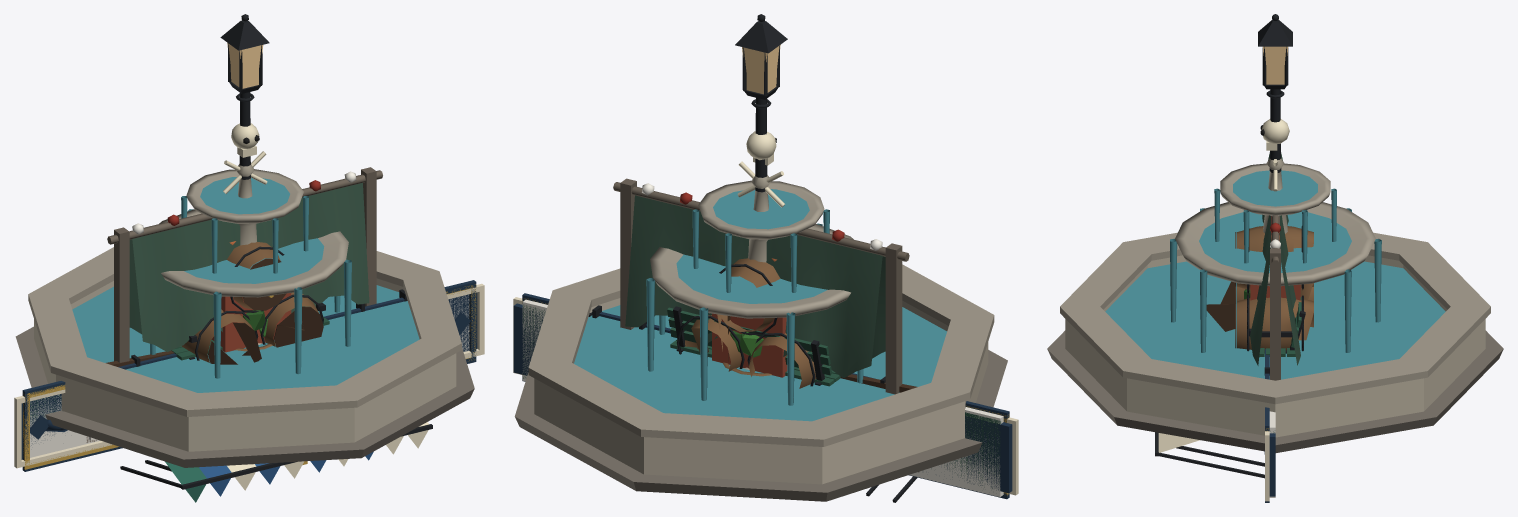
Rendered from kit.glb.
The picture shows the model from 3 angles, left to right: view 1: azimuth 30°, elevation 25°; view 2: azimuth 150°, elevation 25°; view 3: azimuth 270°, elevation 25°; orthographic projection. The views are drawn at different scales.
Visible parts, largest first — view 1: fountain, netrack, rum_barrels, sign_fishhall, sign_chandler, lamp_street, awning_blue, awning_green, sign_tavern, skull_pole, chimney_pots; view 2: fountain, netrack, sign_chandler, sign_fishhall, rum_barrels, lamp_street, bench, chimney_pots, sign_tavern, skull_pole, planter; view 3: fountain, rum_barrels, netrack, lamp_street, awning_green, skull_pole, sign_chandler, bench.
Boxes of the visible parts, x1,y1,x2,y2 form: fountain: (15,164,474,467); netrack: (107,167,382,362); rum_barrels: (182,242,323,364); sign_fishhall: (22,280,476,471); sign_chandler: (14,283,484,468); lamp_street: (220,14,269,179); awning_blue: (145,433,407,496); awning_green: (120,422,432,502); sign_tavern: (23,284,476,469); skull_pole: (223,123,267,193); chimney_pots: (211,241,291,352); fountain: (514,175,1007,501); netrack: (613,178,909,394); sign_chandler: (513,297,1018,495); sign_fishhall: (522,293,1009,499); rum_barrels: (676,258,825,388); lamp_street: (735,14,787,192); bench: (667,306,840,386); chimney_pots: (712,258,787,377); sign_tavern: (522,298,1009,495); skull_pole: (737,131,784,207); planter: (722,330,771,376); fountain: (1047,158,1503,452); rum_barrels: (1206,226,1313,351); netrack: (1250,152,1300,380); lamp_street: (1258,14,1292,172); awning_green: (1155,432,1264,478); skull_pole: (1260,119,1289,234); sign_chandler: (1265,431,1275,501); bench: (1249,297,1305,356).
Size of the model in its own units: 5.68 by 4.93 by 5.
